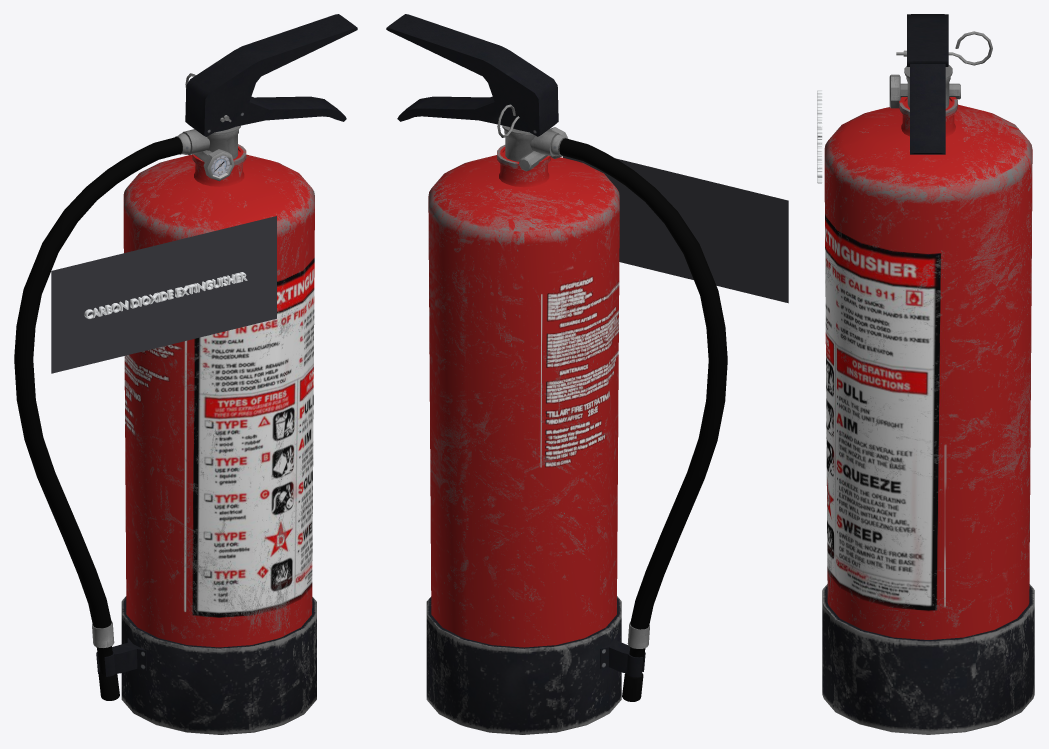
Rendered from extinguisher-co2.glb.
3 views of the same model, side by side, from view 1: azimuth 30°, elevation 25°; view 2: azimuth 150°, elevation 25°; view 3: azimuth 270°, elevation 25° (orthographic). The views are drawn at different scales.
Visible parts, largest first — view 1: Fire_Extinguisher, Colour_Band, Extinguisher_Name; view 2: Fire_Extinguisher, Colour_Band; view 3: Fire_Extinguisher, Extinguisher_Name.
Boxes of the visible parts, x1,y1,x2,y2 form: Fire_Extinguisher: (14, 14, 357, 734); Colour_Band: (51, 216, 276, 373); Extinguisher_Name: (84, 272, 247, 319); Fire_Extinguisher: (386, 14, 727, 734); Colour_Band: (563, 156, 788, 303); Fire_Extinguisher: (822, 14, 1034, 734); Extinguisher_Name: (817, 90, 822, 183).
Size of the model in its own units: 0.4163 by 0.7408 by 0.2089.
Materials: 3 (1 with a texture image).
